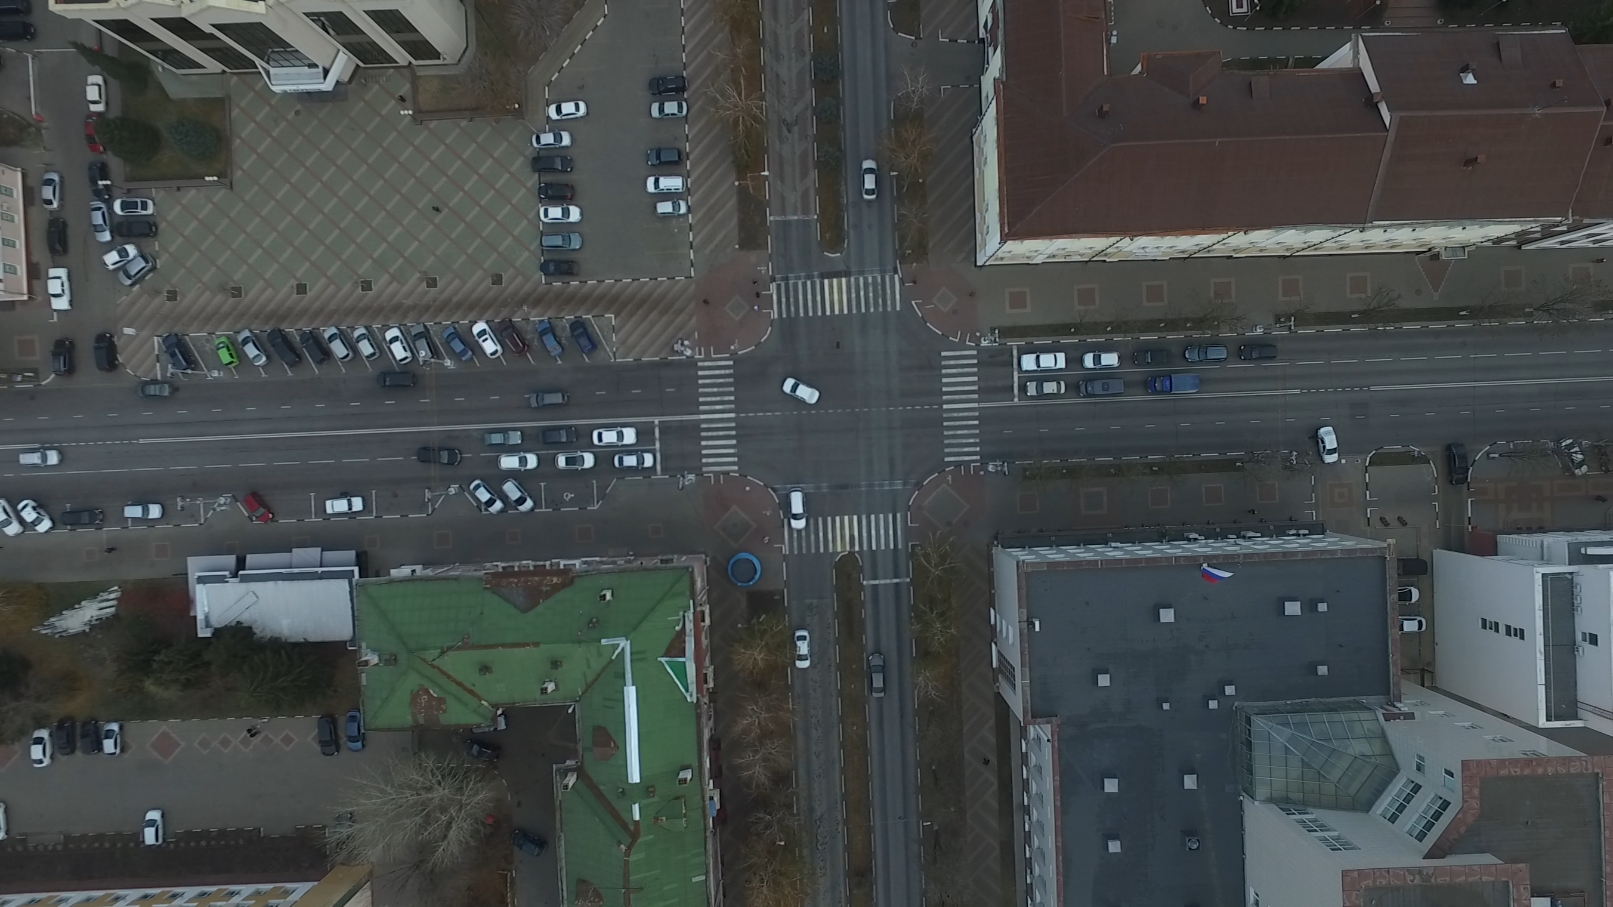car: (165, 342, 205, 384), (468, 478, 508, 515), (1147, 371, 1205, 396), (240, 334, 276, 375), (271, 333, 306, 375), (43, 266, 74, 312), (323, 330, 359, 370), (18, 496, 53, 534), (28, 724, 56, 770), (497, 322, 532, 360), (474, 328, 508, 365), (1559, 437, 1591, 477), (508, 826, 547, 858), (414, 331, 442, 375), (445, 330, 479, 367), (782, 375, 820, 408), (462, 736, 501, 767), (53, 717, 82, 757), (502, 478, 536, 513), (333, 812, 360, 856), (92, 331, 119, 374), (37, 169, 64, 210), (355, 330, 386, 367), (537, 323, 567, 361), (119, 254, 156, 284), (140, 806, 166, 848), (88, 200, 114, 243), (101, 243, 137, 272), (88, 161, 114, 202), (304, 338, 333, 373), (83, 113, 107, 156), (387, 334, 414, 372), (242, 492, 273, 525), (317, 715, 341, 757), (345, 711, 368, 754), (1, 493, 24, 536), (323, 493, 367, 516), (83, 74, 110, 112), (571, 321, 599, 355), (540, 203, 584, 225), (110, 197, 154, 219), (417, 444, 463, 465), (1018, 352, 1069, 371), (50, 338, 73, 379), (218, 343, 243, 381), (382, 375, 425, 396), (540, 231, 583, 252), (496, 452, 540, 473), (59, 509, 106, 528), (590, 427, 638, 446), (1079, 378, 1127, 396), (1318, 424, 1340, 464), (555, 451, 599, 471), (80, 718, 103, 755), (530, 154, 576, 173), (1, 17, 35, 42), (1447, 442, 1468, 483), (115, 218, 158, 238), (860, 158, 880, 202), (646, 174, 688, 194), (532, 128, 574, 148), (1185, 342, 1227, 362), (646, 145, 684, 167), (613, 450, 657, 468), (867, 652, 886, 697), (1134, 347, 1175, 367), (547, 101, 586, 122), (788, 486, 806, 529), (538, 181, 578, 200), (654, 199, 692, 219), (649, 100, 690, 118), (18, 449, 63, 465), (47, 219, 66, 257), (135, 381, 175, 400), (102, 720, 123, 755), (540, 260, 582, 278), (530, 389, 568, 408), (1025, 379, 1066, 396), (1081, 352, 1124, 369), (648, 78, 690, 94), (485, 431, 527, 447), (121, 505, 164, 521), (1398, 556, 1429, 577), (540, 426, 578, 443), (795, 629, 811, 670), (1240, 344, 1282, 359), (1399, 615, 1427, 632), (1, 800, 12, 841), (1398, 585, 1419, 604)
